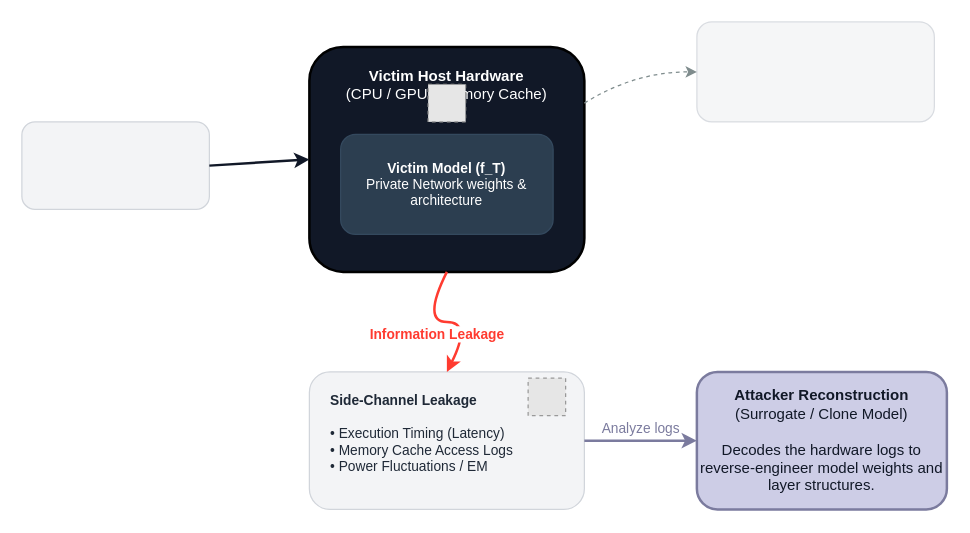
Image size: 970x533. Some labels were removed from this diagram. Grey dashed boxes stand in for pictures. Here are the shapes that lost their labels. From the top down, the centre of each, then its label:
(815,71): Normal API Output (Model Prediction) [ BYPASSED / IGNORED ]
(115,165): Input Query (x) (Normal API query)
